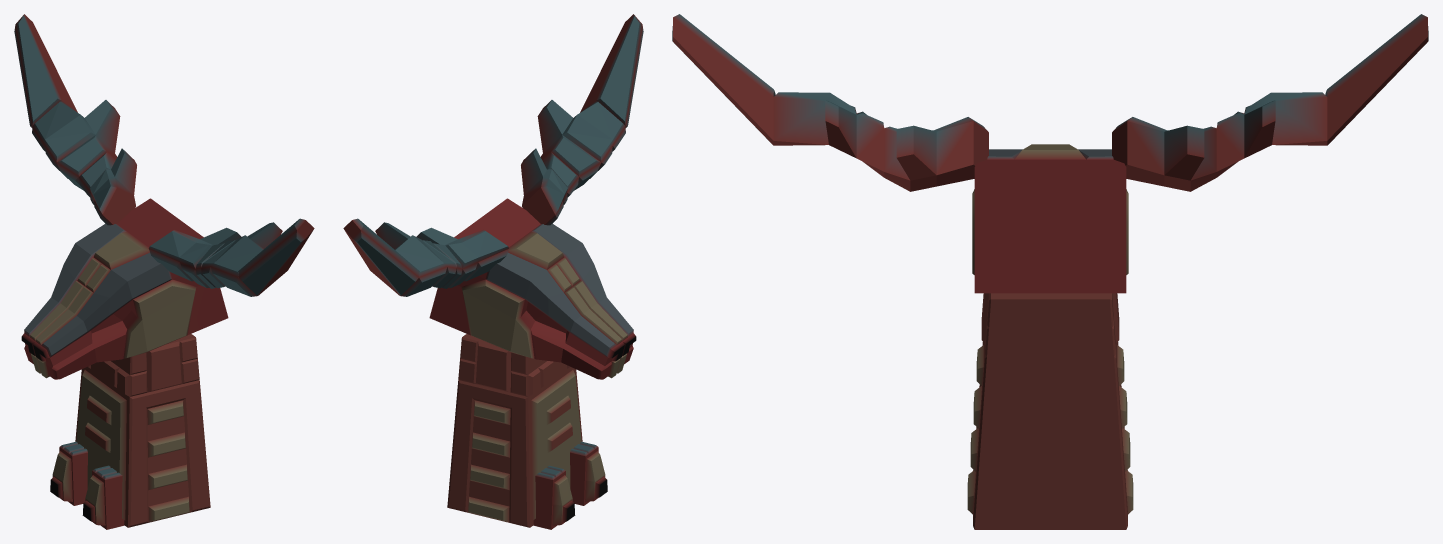
File: ENV_Relic_02_Deer.fbx
The picture shows the model from 3 angles, left to right: view 1: azimuth 30°, elevation 25°; view 2: azimuth 150°, elevation 25°; view 3: azimuth 270°, elevation 25°; orthographic projection. The views are drawn at different scales.
Visible parts, largest first — view 1: ENV_Relic_02_Deer; view 2: ENV_Relic_02_Deer; view 3: ENV_Relic_02_Deer.
Part boxes in pixels (left/top/right/bottom): ENV_Relic_02_Deer: left=14, top=14, right=314, bottom=529; ENV_Relic_02_Deer: left=343, top=14, right=643, bottom=529; ENV_Relic_02_Deer: left=672, top=14, right=1428, bottom=529.
Size of the model in its own units: 105 by 223 by 304.
